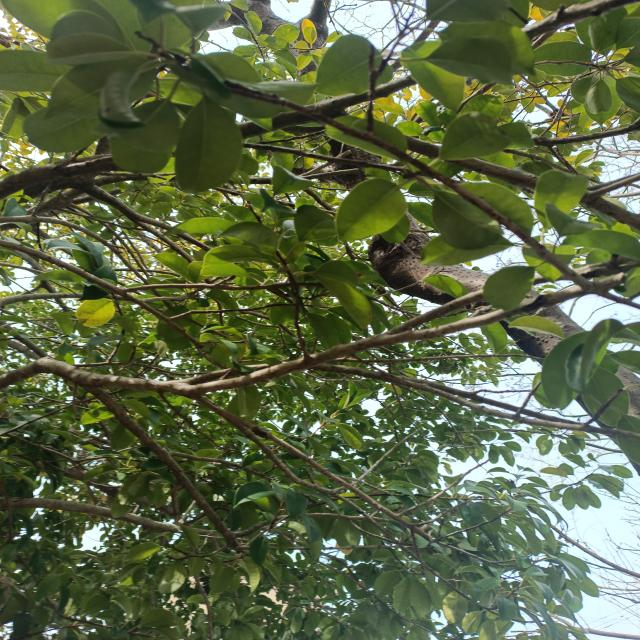Twig: (0, 1, 634, 200), (175, 391, 514, 618), (0, 273, 627, 393), (0, 320, 244, 554), (220, 407, 467, 553), (0, 240, 234, 370), (71, 174, 297, 305), (0, 215, 232, 338), (315, 364, 635, 432), (0, 498, 384, 536)
